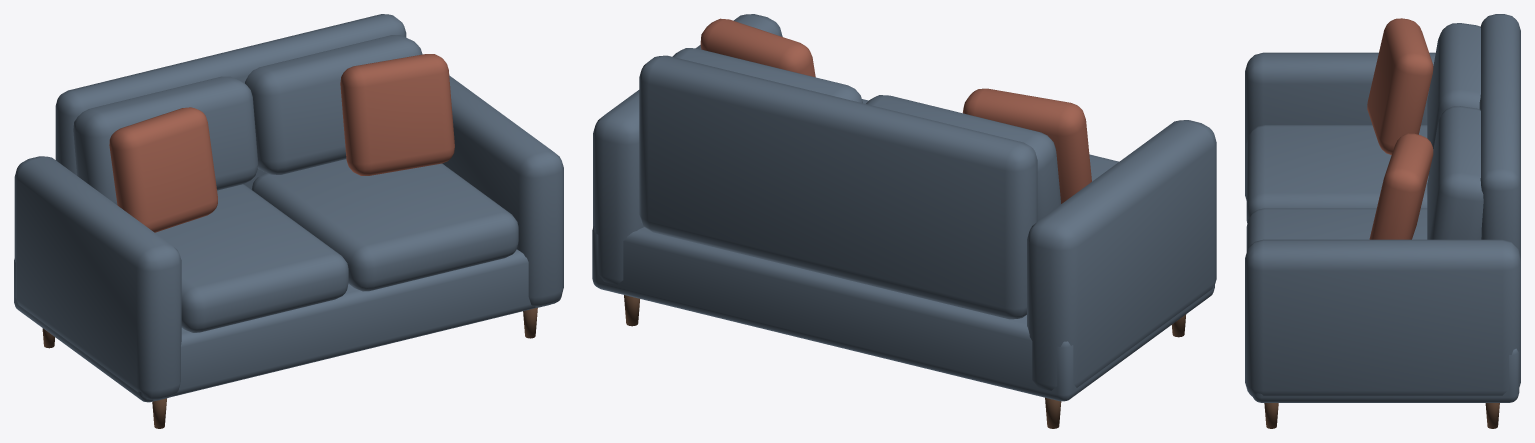
File: sofa.glb
3 views of the same model, side by side, from view 1: azimuth 30°, elevation 25°; view 2: azimuth 150°, elevation 25°; view 3: azimuth 270°, elevation 25° (orthographic). The views are drawn at different scales.
Visible parts, largest first — view 1: sofa; view 2: sofa; view 3: sofa.
Part boxes in pixels (x1,y1,x2,y2): sofa: [14, 14, 563, 428]; sofa: [592, 14, 1216, 428]; sofa: [1245, 14, 1520, 428].
Size of the model in its own units: 1.49 by 0.815 by 0.835.
